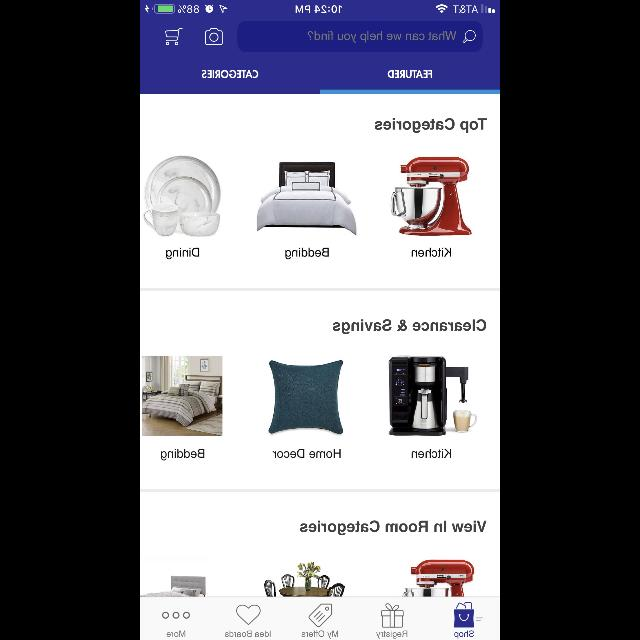icon: (453, 602, 482, 628), (308, 603, 332, 627), (381, 604, 404, 628), (236, 605, 260, 625), (165, 28, 182, 46), (205, 28, 222, 46), (462, 31, 476, 44), (162, 612, 190, 618)
image: (257, 162, 357, 235), (388, 354, 477, 436), (390, 157, 472, 236), (142, 356, 222, 436), (144, 156, 220, 237), (269, 360, 343, 434), (264, 562, 344, 596), (402, 560, 474, 596), (140, 576, 206, 596)
input: (238, 22, 482, 52)
text: (300, 520, 486, 536), (332, 320, 486, 334), (374, 118, 486, 134), (308, 32, 456, 42), (273, 448, 341, 458), (161, 449, 205, 461), (285, 248, 329, 260), (202, 70, 258, 78), (411, 448, 451, 458), (167, 247, 200, 259), (225, 630, 271, 638), (388, 70, 432, 78), (411, 248, 451, 256), (302, 630, 338, 638), (377, 631, 408, 639), (454, 630, 474, 638), (167, 630, 186, 638)
uppertaskbar: (140, 0, 500, 14)
